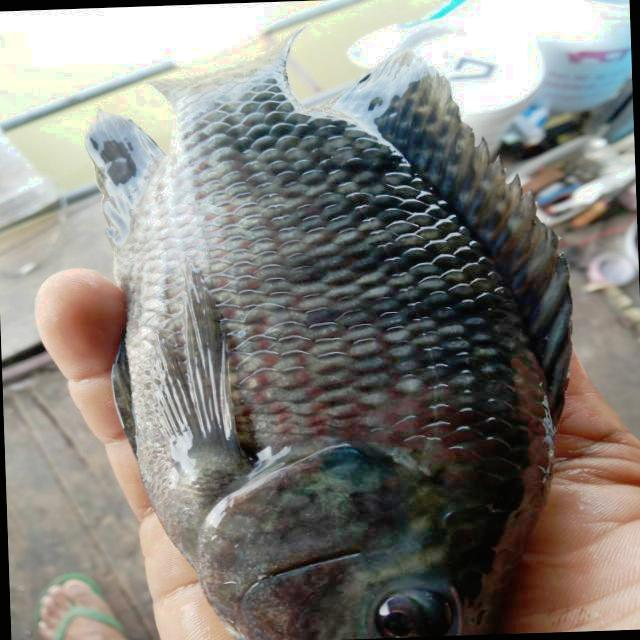Aeromonas Septicemia: (86, 32, 571, 639), (87, 48, 571, 639), (87, 51, 571, 639), (87, 59, 571, 639)
